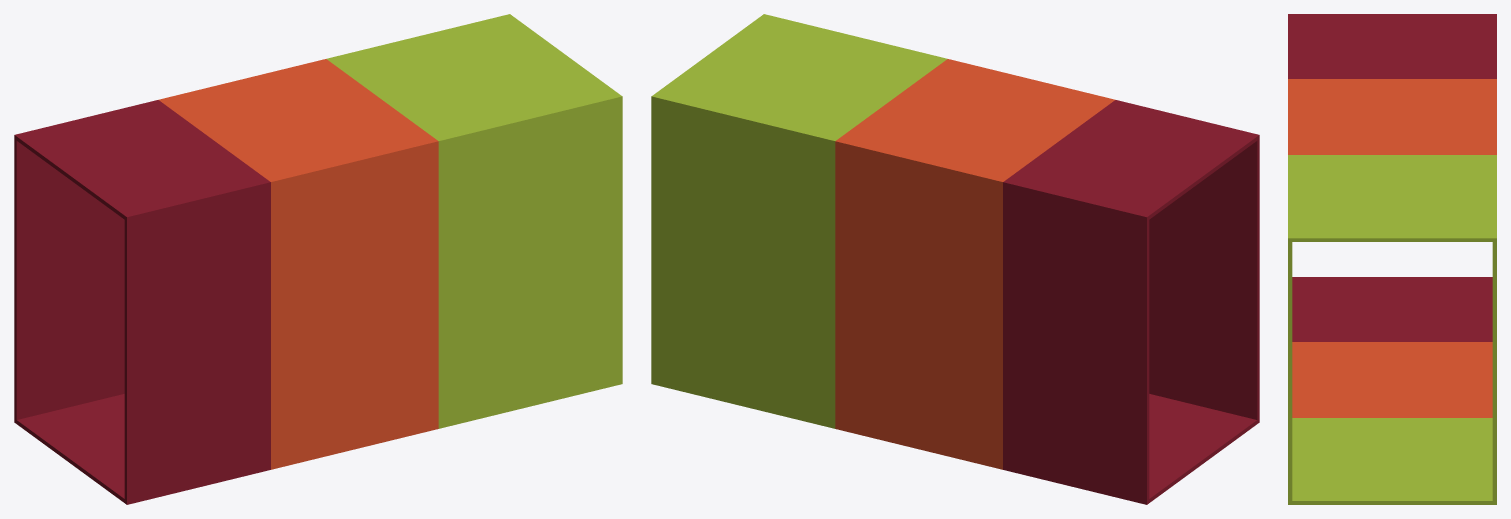
File: waste_heat_recovery_boiler_temperature.glb
3 views of the same model, side by side, from view 1: azimuth 30°, elevation 25°; view 2: azimuth 150°, elevation 25°; view 3: azimuth 270°, elevation 25° (orthographic). The views are drawn at different scales.
Parts seen in each view (by area): view 1: temperature__front, temperature__back; view 2: temperature__back, temperature__front; view 3: temperature__back, temperature__front.
Boxes of the visible parts, box(x1,y1,x2,y2) form: temperature__front: box(70, 55, 622, 504); temperature__back: box(14, 14, 565, 463); temperature__back: box(651, 55, 1203, 504); temperature__front: box(708, 14, 1259, 463); temperature__back: box(1392, 14, 1496, 504); temperature__front: box(1288, 14, 1392, 504).
Size of the model in its own units: 3.1 by 1.72 by 1.22.
